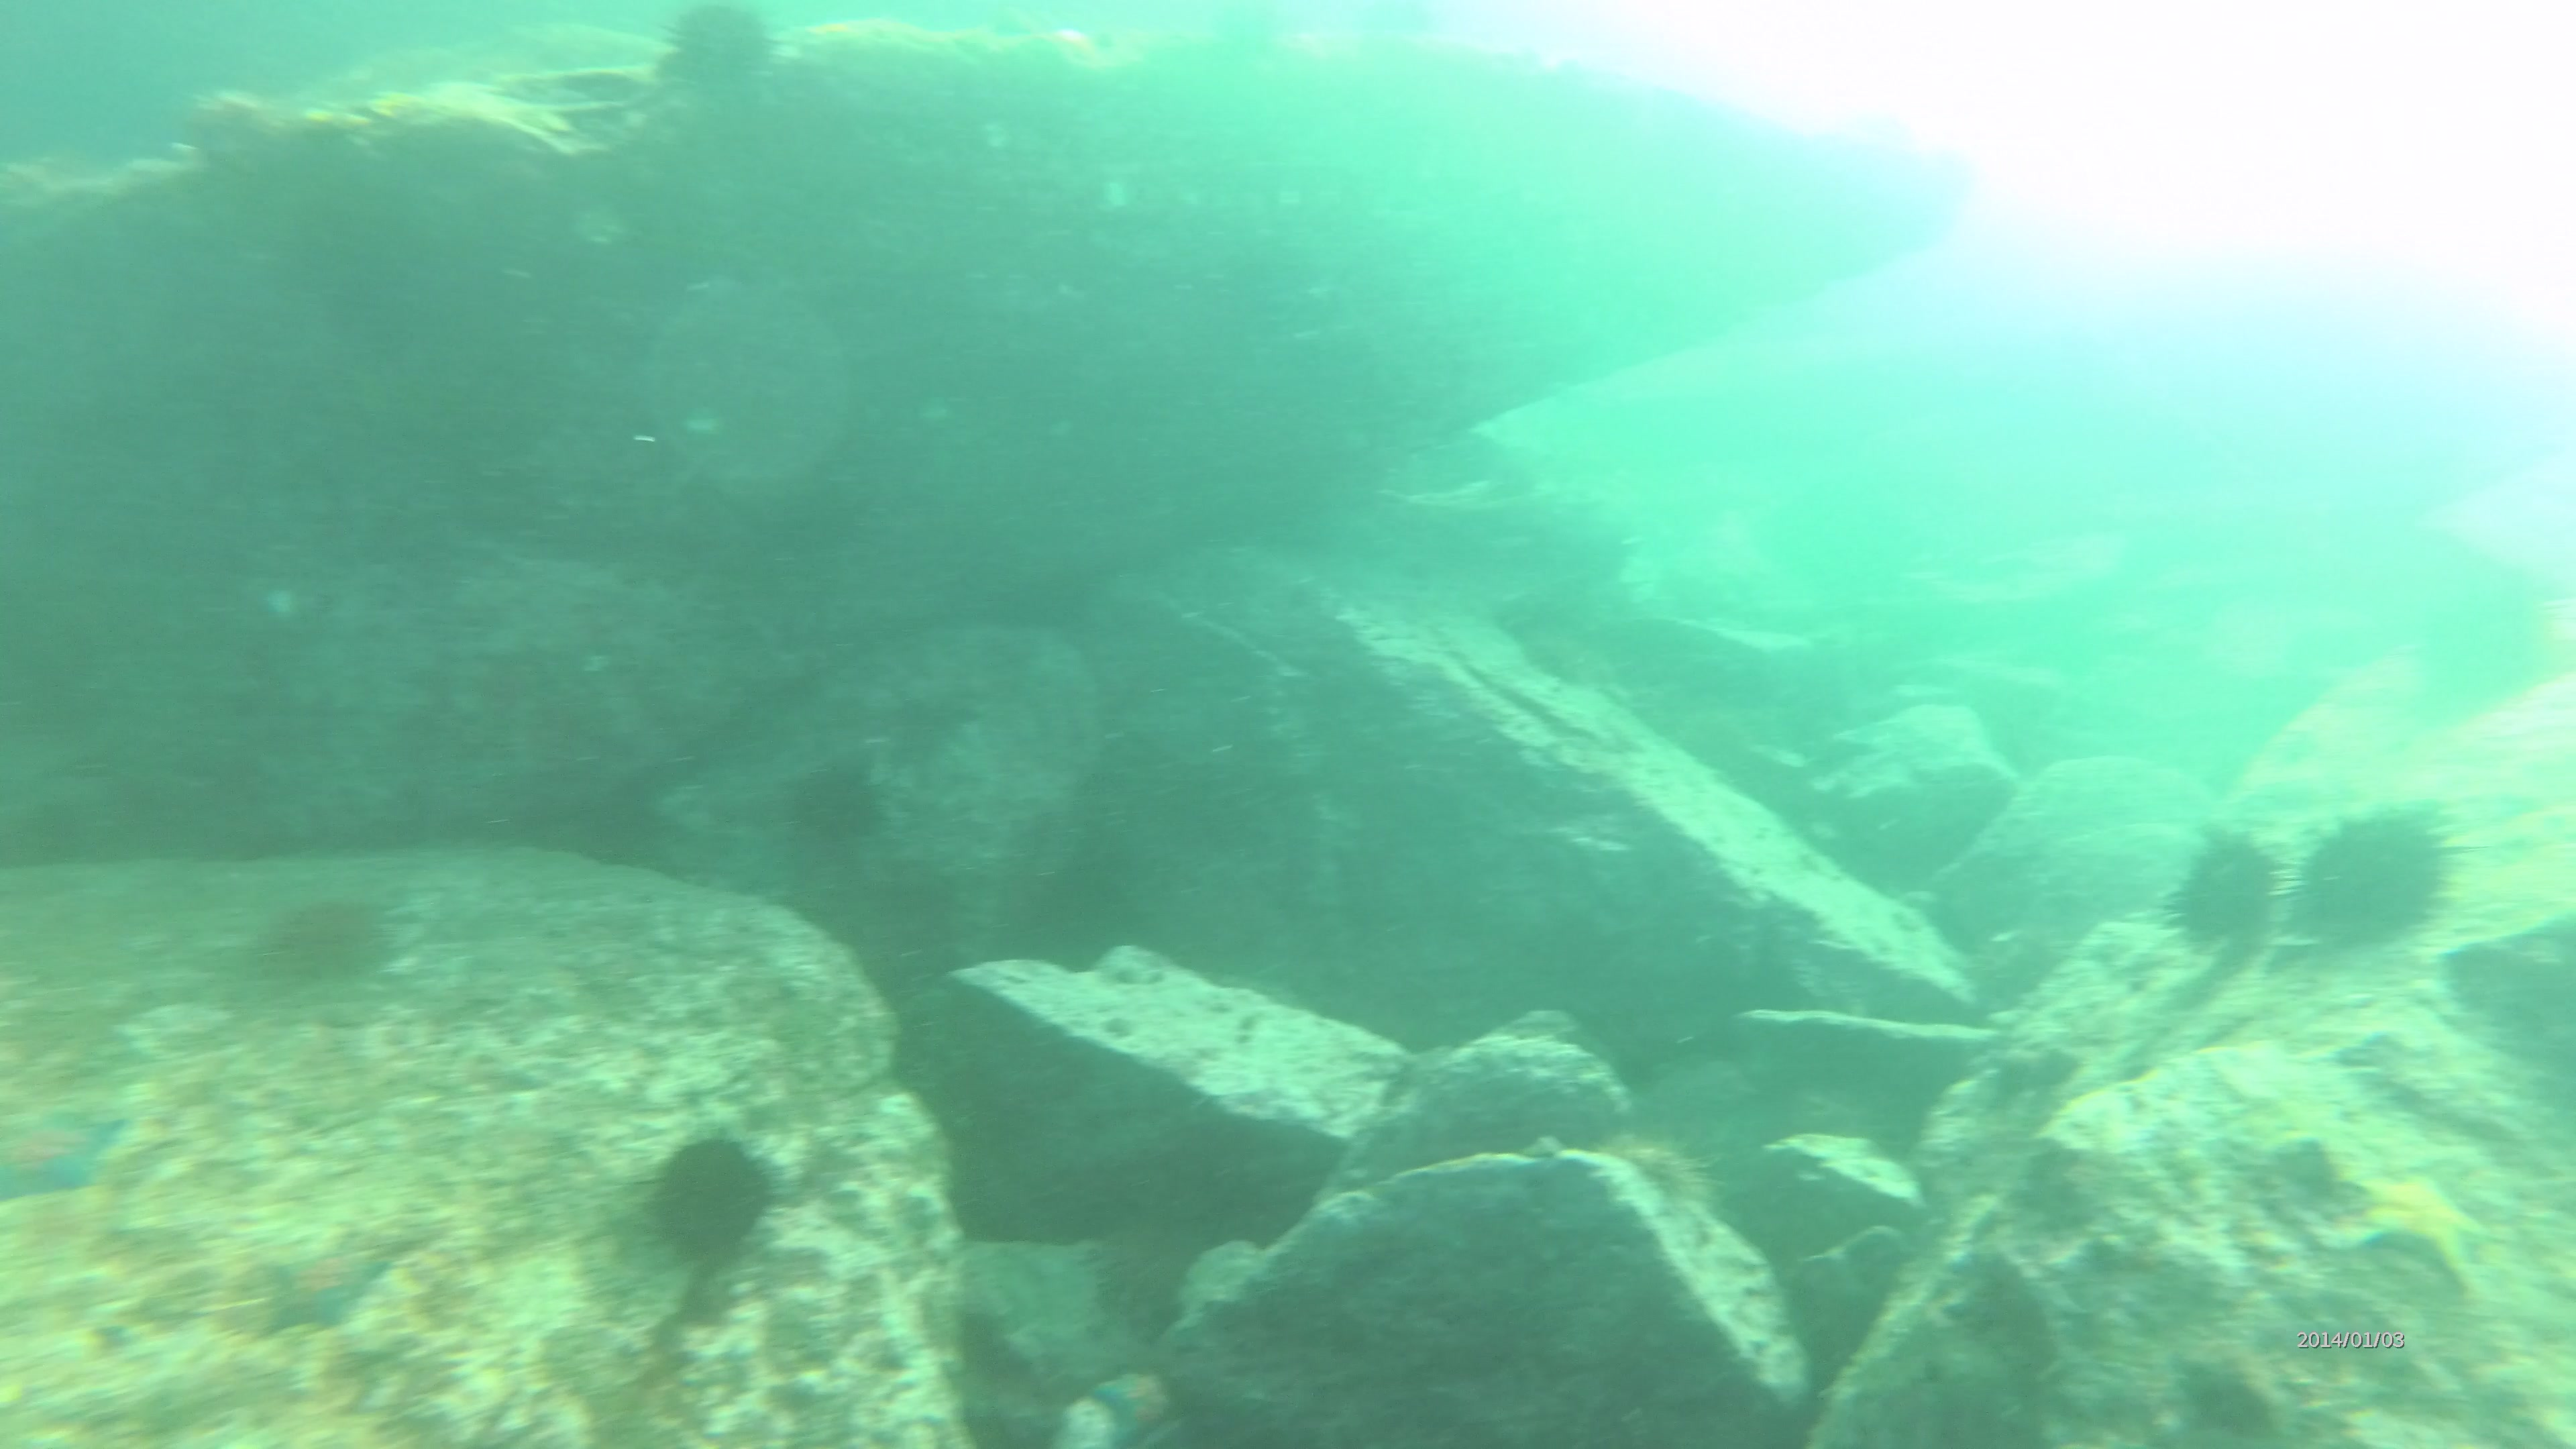echinus: (2293, 805, 2465, 962), (648, 1132, 778, 1269), (255, 879, 405, 996), (2155, 824, 2282, 952), (656, 0, 782, 106), (1594, 1125, 1702, 1226), (777, 770, 876, 855)
starfish: (2327, 1157, 2484, 1293), (269, 1240, 395, 1343), (0, 1111, 133, 1207), (1102, 1364, 1194, 1449)
